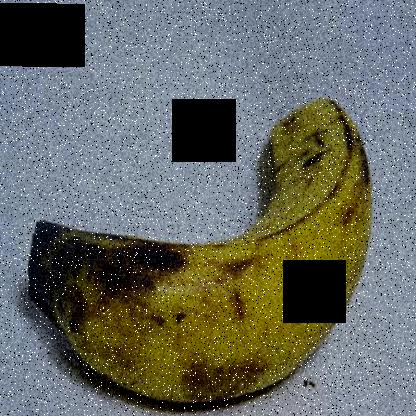ripe: (21, 89, 386, 409)
